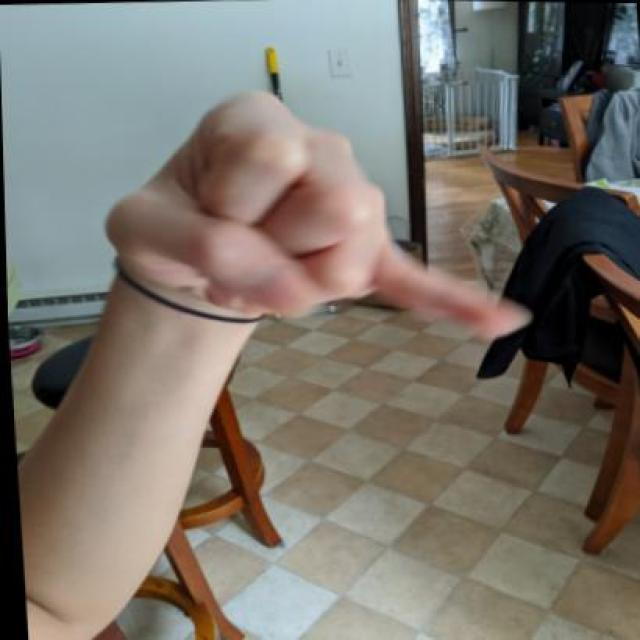J: (107, 84, 541, 349)
